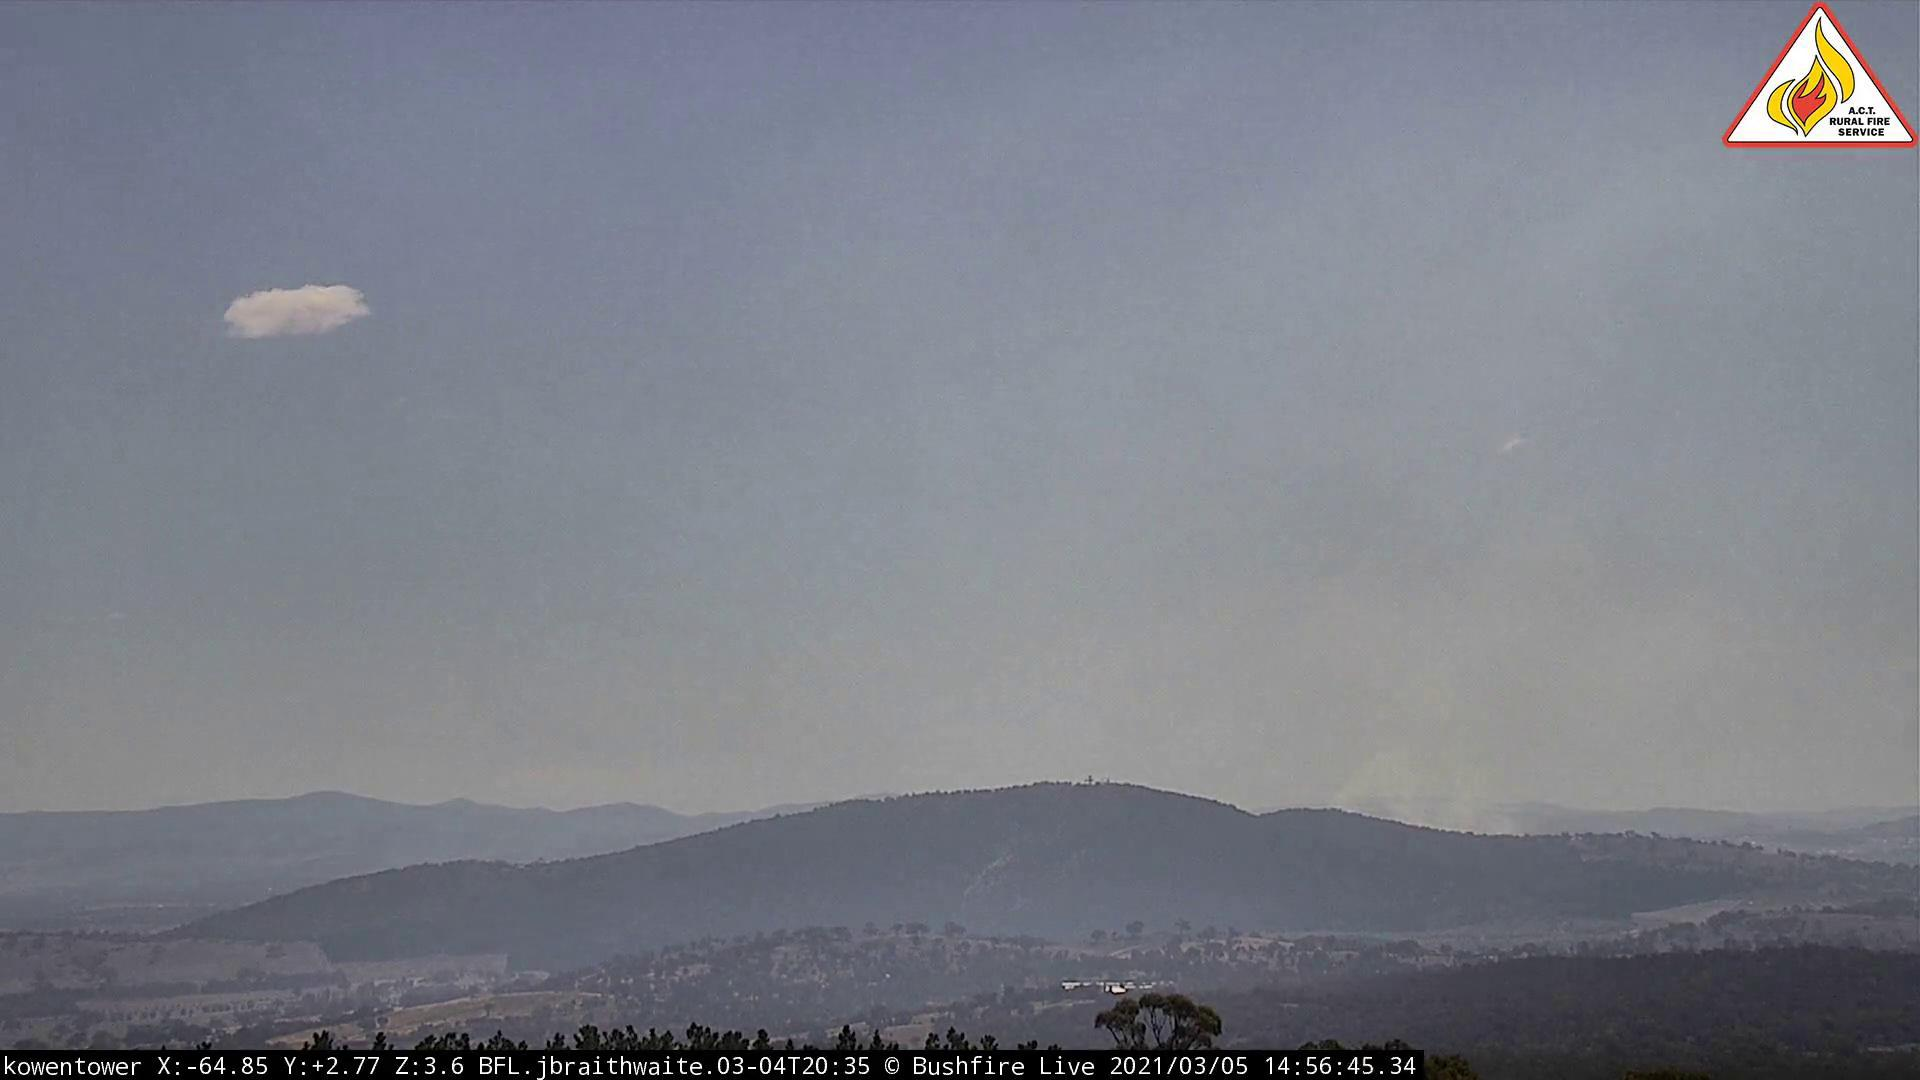Smoke: (1065, 489, 1807, 841)
